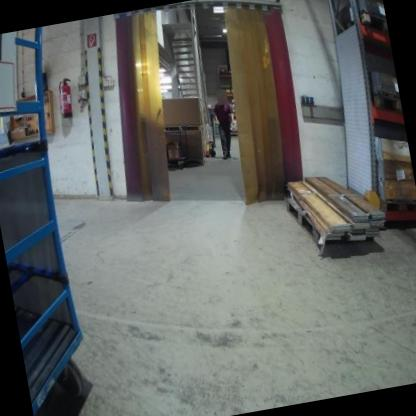pallet: (284, 192, 322, 252), (377, 191, 416, 220), (356, 5, 388, 37), (370, 88, 402, 116), (162, 117, 204, 138), (167, 154, 207, 171)
pallet_truck: (195, 108, 225, 160)
